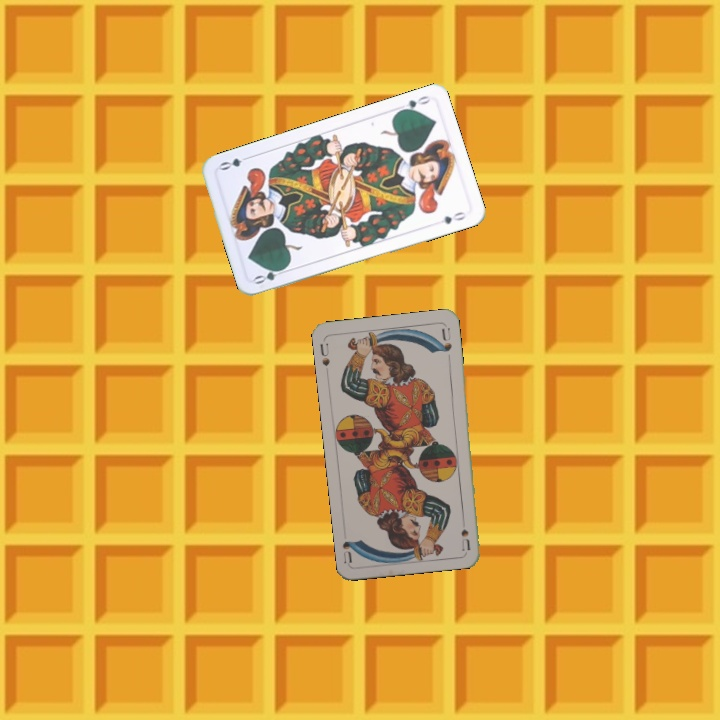GO: (250, 262, 290, 287), (393, 91, 433, 115)
SU: (457, 511, 473, 552), (316, 337, 332, 377)
